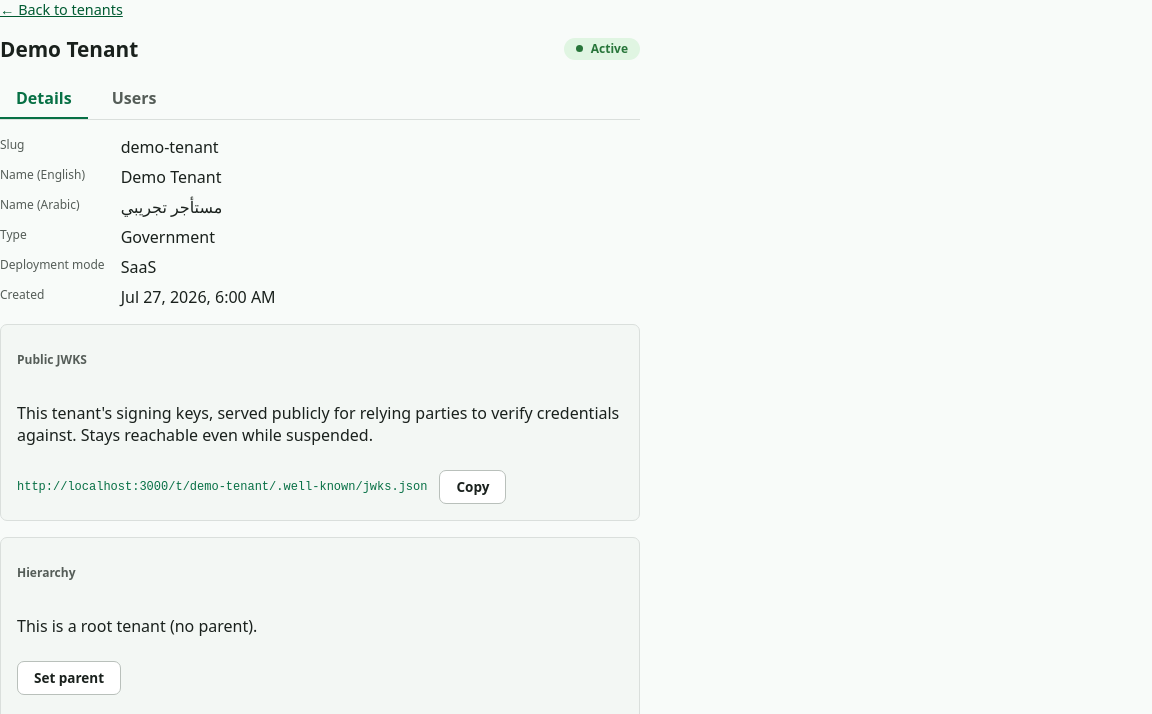
TenantDetailPage hierarchy › shows the localized error inline when the server rejects the parent choice (e.g. a cycle)
Click the button "Set parent" at (69, 678), box [17,661,121,695]
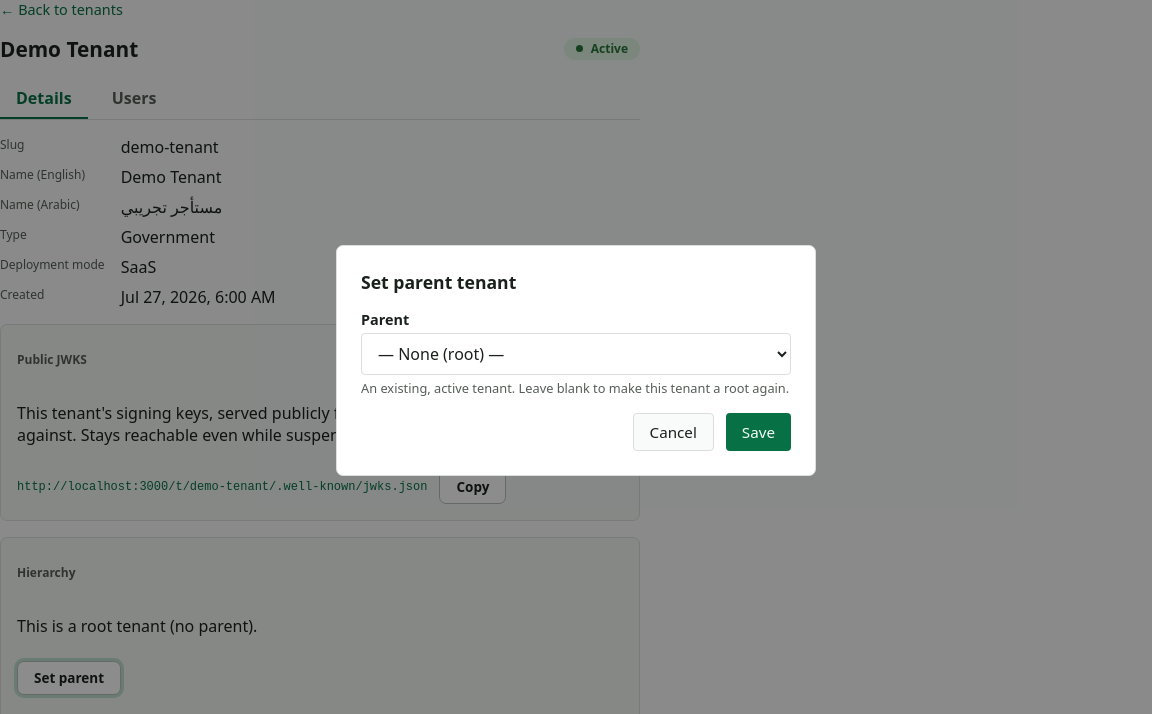
Select "Candidate Parent — candidate-parent" in the dropdown labelled "Parent" at (576, 354), box [361,332,791,374]
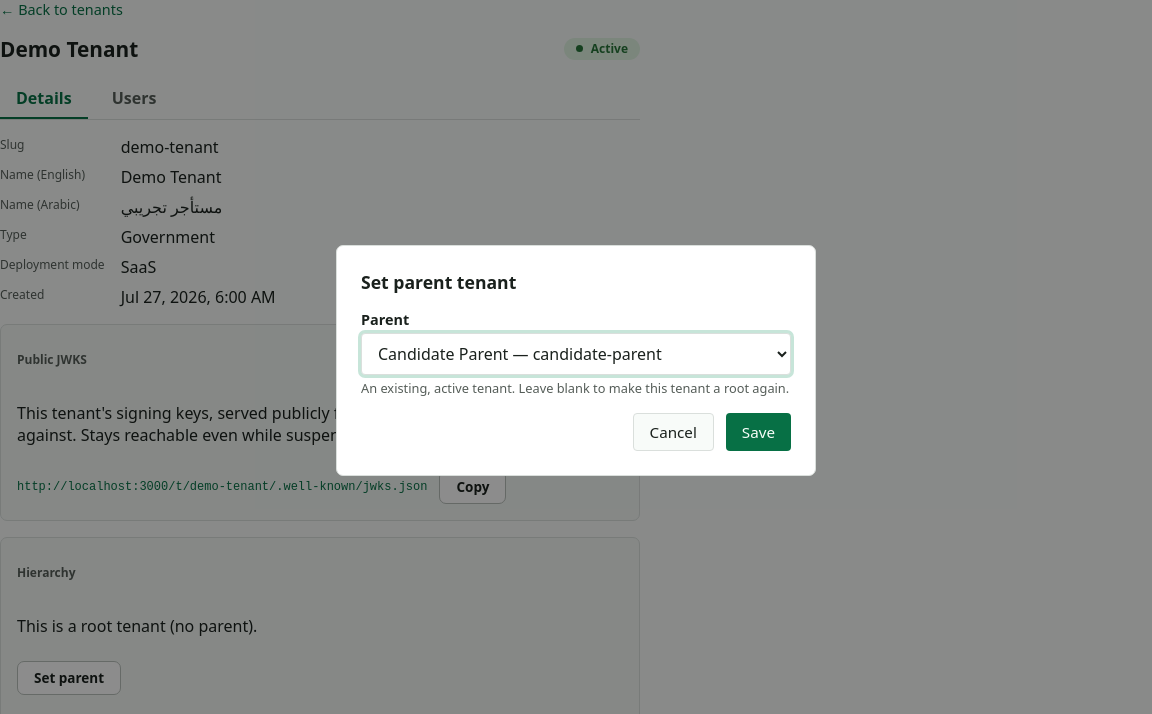
Click the button "Save" at (758, 432), box [726,412,791,450]
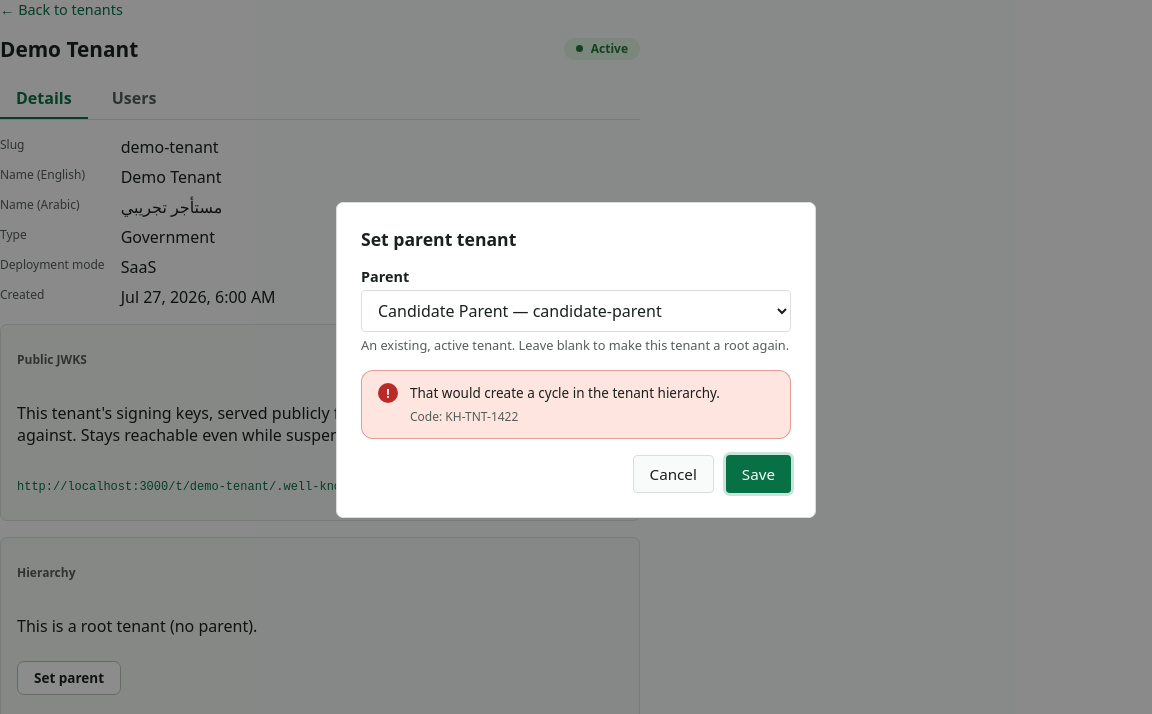
Check: the text "That would create a cycle in the tenant hierarchy." is shown, box [410,383,774,404]
